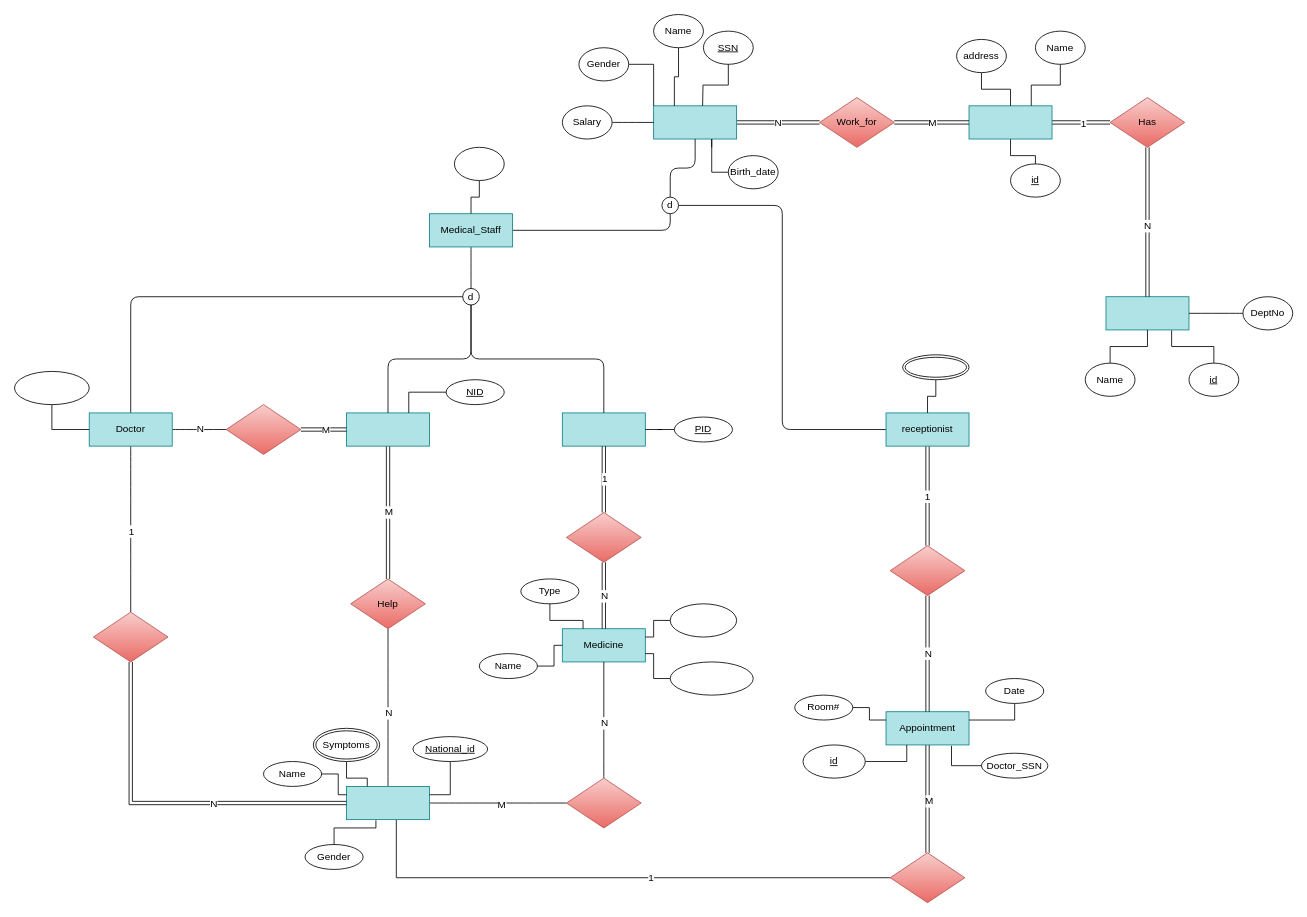
This 1307x917 diagram has some shape labels left out. The shapes that lost their labels are listed below. From the top down, each one's centre as x and y in pixels, then its label:
At (x=695, y=122): "Employee".
At (x=1010, y=122): "Hospital".
At (x=479, y=163): "Degree".
At (x=1147, y=313): "Department".
At (x=935, y=367): "Language".
At (x=51, y=388): "Spectialization".
At (x=263, y=429): "Order".
At (x=388, y=429): "Nurse".
At (x=603, y=429): "Pharmacist".
At (x=603, y=537): "Provide".
At (x=927, y=570): "Schedule".
At (x=130, y=636): "Examine".
At (x=703, y=620): "Expiry_Date".
At (x=711, y=678): "BarCode".
At (x=388, y=803): "Patient".
At (x=603, y=802): "Take".
At (x=927, y=877): "Reserve".
